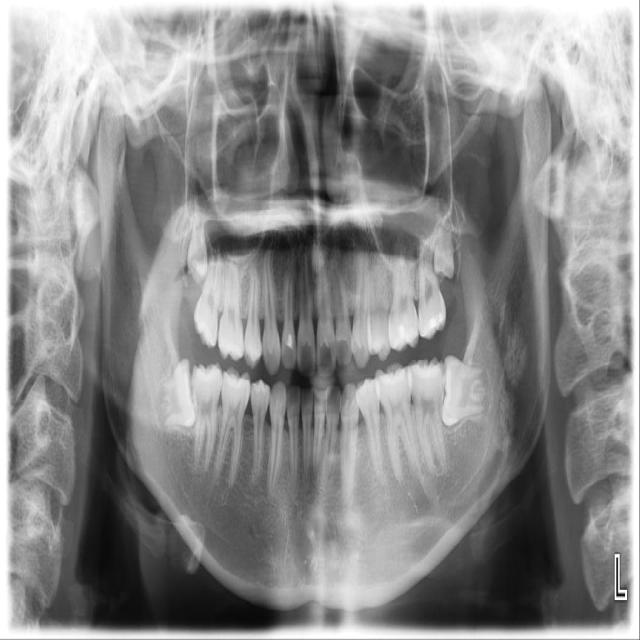Filling: (286, 335, 292, 349)
